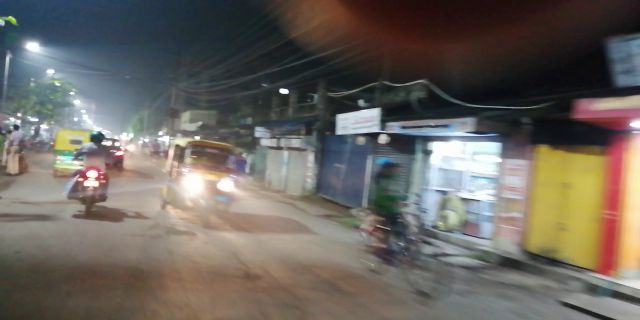Autorickshaw: (350, 158, 455, 305), (167, 134, 244, 227)
Motorbike: (68, 130, 113, 216)
